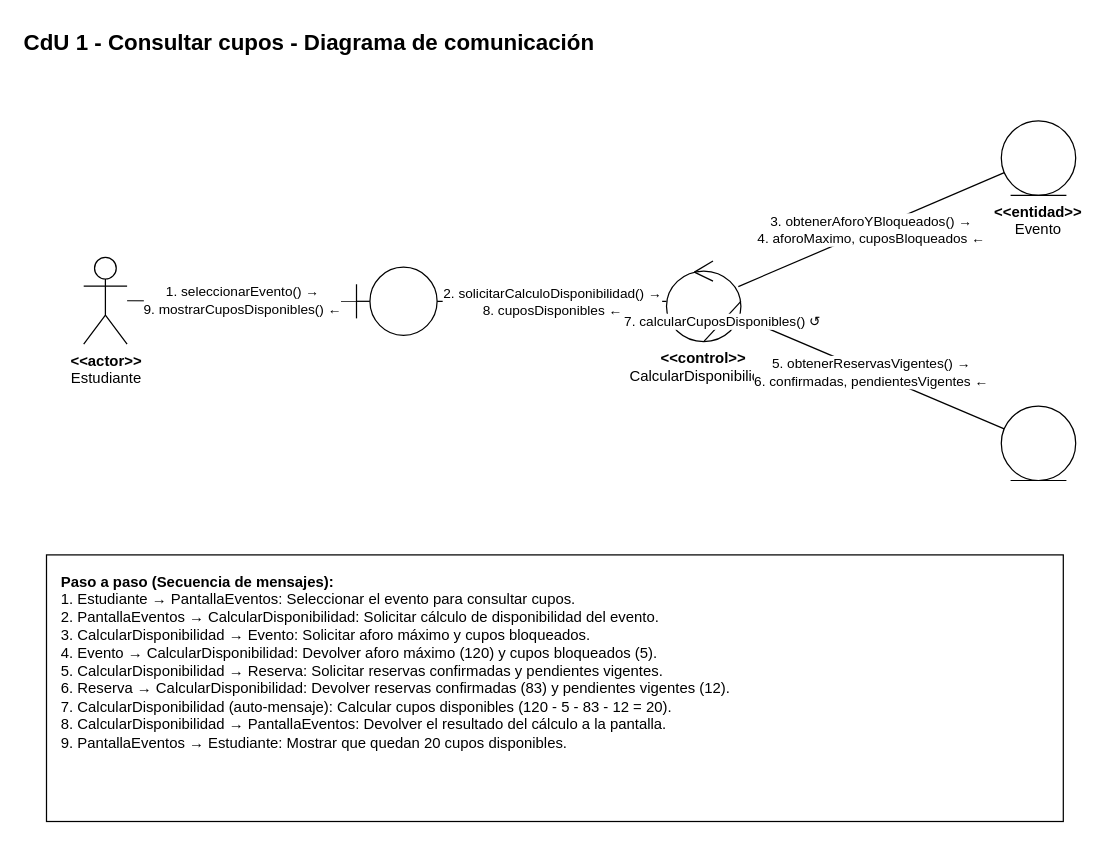
The diagram is 1104 pixels wide and 843 high, and some of its shapes have lost their labels. Here are the shapes that lost their labels. From the top down, the centre of each, then its label:
At point (396, 300): "<<límite>> PantallaEventos".
At point (1038, 442): "<<entidad>> Reserva".
